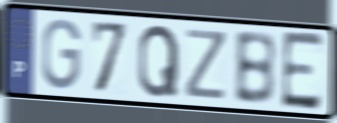7: (90, 17, 131, 96)
B: (232, 29, 278, 108)
E: (280, 29, 326, 114)
G: (39, 16, 83, 92)
Q: (136, 22, 181, 100)
Z: (183, 26, 230, 103)
